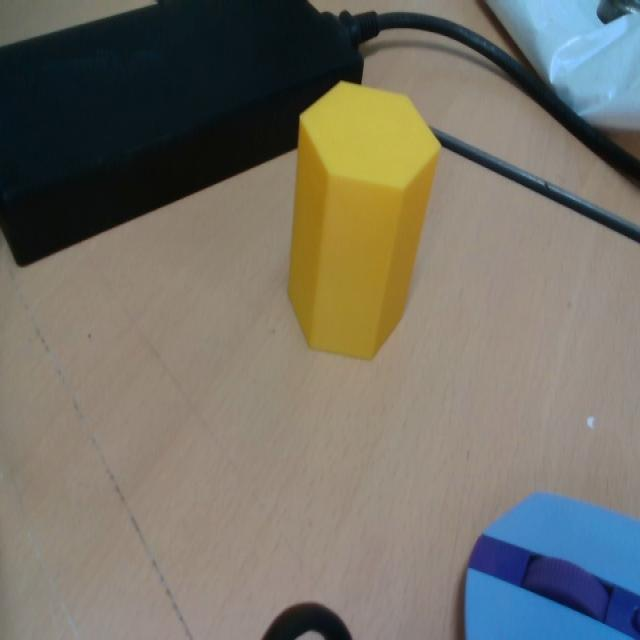hexagon: (289, 81, 439, 359)
